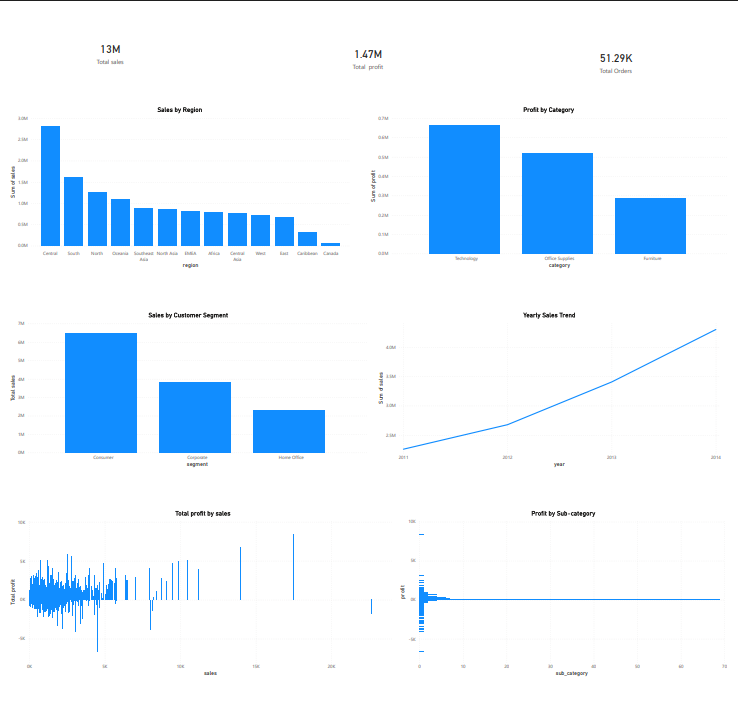

What the dashboard file says about the page in this screenshot:
{"tool":"powerbi","page":{"name":"Page 1","canvas":[1920,2080],"ordinal":0},"visuals":[{"type":"columnChart","title":"Sales by Customer Segment","fields":{"Category":["SuperStoreOrders.segment"],"Y":["Sum(SuperStoreOrders.sales)"]},"box":[0,805,960,420],"z":0},{"type":"columnChart","fields":{"Y":["Sum(SuperStoreOrders.profit)"],"Category":["SuperStoreOrders.sales"]},"box":[0,1332.5,1037.5,450],"z":1000},{"type":"card","fields":{"Values":["CountNonNull(SuperStoreOrders.order_id)"]},"box":[1317.5,0,602.5,280],"z":2000},{"type":"card","fields":{"Values":["Sum(SuperStoreOrders.sales)"]},"box":[0,0,545,230],"z":3000},{"type":"card","fields":{"Values":["Sum(SuperStoreOrders.profit)"]},"box":[657.5,0,602.5,257.5],"z":4000},{"type":"clusteredColumnChart","title":"Sales by Region","fields":{"Category":["SuperStoreOrders.region"],"Y":["Sum(SuperStoreOrders.sales)"]},"box":[0,257.5,915,437.5],"z":5000},{"type":"clusteredColumnChart","title":"Profit by Category","fields":{"Category":["SuperStoreOrders.category"],"Y":["Sum(SuperStoreOrders.profit)"]},"box":[960,257.5,960,437.5],"z":5001},{"type":"lineChart","title":"Yearly Sales Trend","fields":{"Category":["SuperStoreOrders.year"],"Y":["Sum(SuperStoreOrders.sales)"]},"box":[980,805,922.5,420],"z":5002},{"type":"barChart","title":"Profit by Sub-category","fields":{"Y":["CountNonNull(SuperStoreOrders.sub_category)"],"Category":["SuperStoreOrders.profit"]},"box":[1037.5,1332.5,882.5,450],"z":5003}]}

Visuals, with their boxes on the page's 1920x2080 design canvas (x1, y1, x2, y2). These are canvas units, not pixel positions in the 738x710 screenshot, which may show the page scaled, cropped or inside an application window:
"Sales by Customer Segment" columnChart: [left=0, top=805, right=960, bottom=1225]
columnChart - Sum(SuperStoreOrders.profit) x SuperStoreOrders.sales: [left=0, top=1332, right=1038, bottom=1782]
card - CountNonNull(SuperStoreOrders.order_id): [left=1318, top=0, right=1920, bottom=280]
card - Sum(SuperStoreOrders.sales): [left=0, top=0, right=545, bottom=230]
card - Sum(SuperStoreOrders.profit): [left=658, top=0, right=1260, bottom=258]
"Sales by Region" clusteredColumnChart: [left=0, top=258, right=915, bottom=695]
"Profit by Category" clusteredColumnChart: [left=960, top=258, right=1920, bottom=695]
"Yearly Sales Trend" lineChart: [left=980, top=805, right=1902, bottom=1225]
"Profit by Sub-category" barChart: [left=1038, top=1332, right=1920, bottom=1782]
